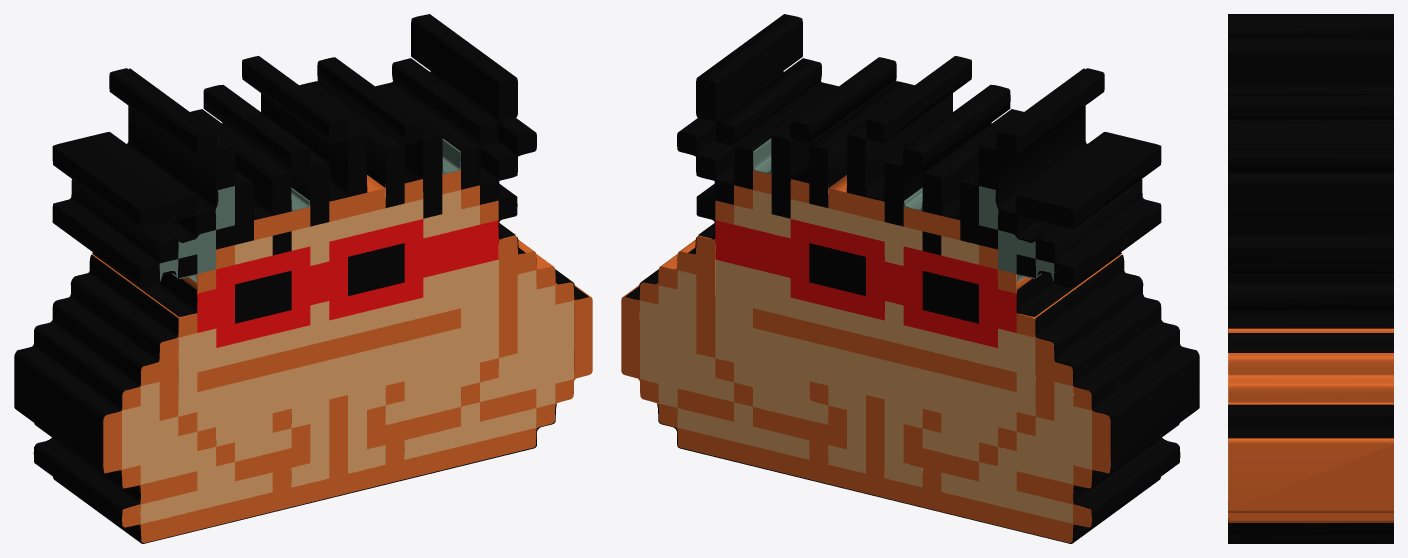
Rendered from Toadz_3192.glb.
3 renders of one model, left to right at view 1: azimuth 30°, elevation 25°; view 2: azimuth 150°, elevation 25°; view 3: azimuth 270°, elevation 25°, orthographic. The views are drawn at different scales.
Parts seen in each view (by area): view 1: Curve; view 2: Curve; view 3: Curve.
Part boxes in pixels (bbox=[...]): Curve: bbox=[14, 14, 592, 543]; Curve: bbox=[621, 14, 1199, 543]; Curve: bbox=[1228, 14, 1393, 543].
Bounding box in the file's own units: 3.24 × 2.49 × 1.
